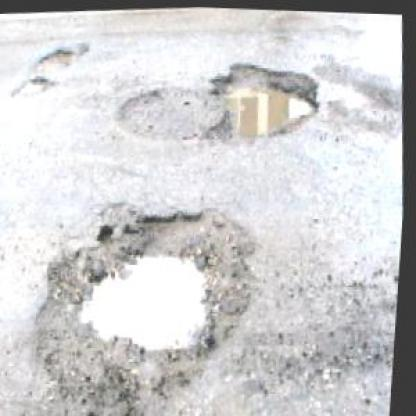pothole: (24, 190, 274, 415), (197, 50, 327, 146), (36, 36, 93, 76), (10, 74, 58, 101)
